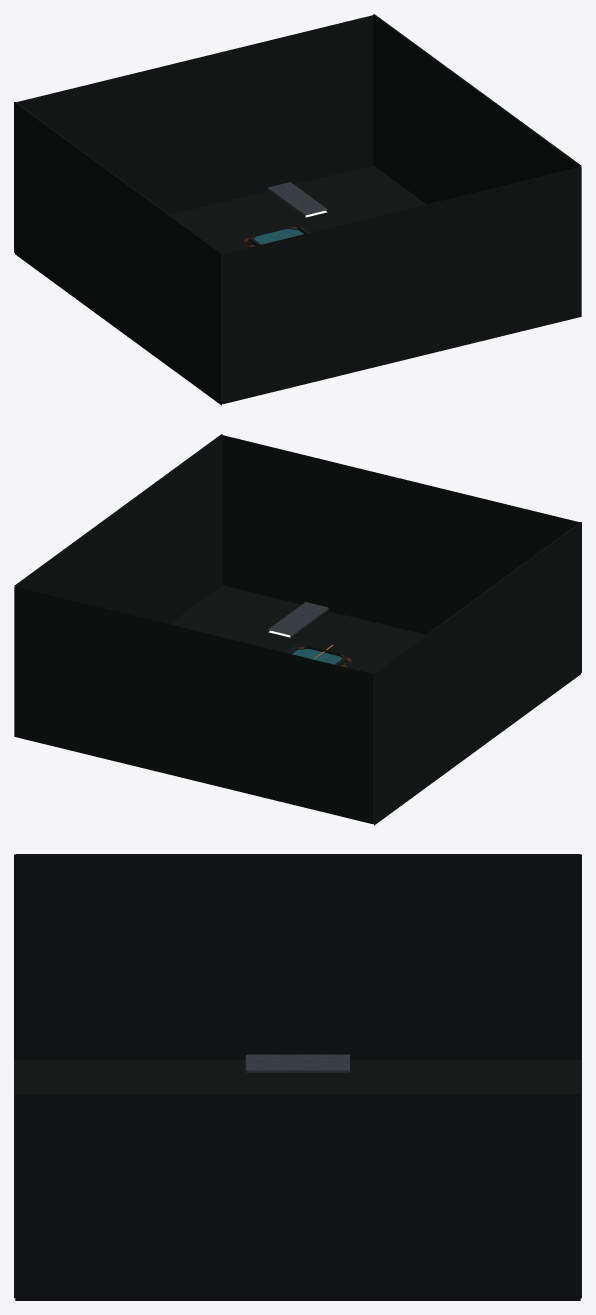
File: focused_practice_hall_modular_v1.gltf
3 views of the same model, one above another, from view 1: azimuth 30°, elevation 25°; view 2: azimuth 150°, elevation 25°; view 3: azimuth 270°, elevation 25° (orthographic). The views are drawn at different scales.
Parts seen in each view (by area): view 1: NODE_background_wall_pz, NODE_background_wall_nz, NODE_background_wall_nx, NODE_background_wall_px, NODE_background_floor, NODE_lamp_housing_LOD0; view 2: NODE_background_wall_nz, NODE_background_wall_pz, NODE_background_wall_nx, NODE_background_wall_px, NODE_background_floor, NODE_lamp_housing_LOD0; view 3: NODE_background_wall_px, NODE_background_wall_nx, NODE_background_floor, NODE_lamp_housing_LOD0, NODE_background_wall_nz, NODE_background_wall_pz.
Boxes of the visible parts, bbox=[...] form: NODE_background_wall_pz: bbox=[222, 166, 581, 404]; NODE_background_wall_nz: bbox=[16, 15, 373, 214]; NODE_background_wall_nx: bbox=[14, 102, 222, 403]; NODE_background_wall_px: bbox=[373, 14, 581, 203]; NODE_background_floor: bbox=[15, 165, 426, 405]; NODE_lamp_housing_LOD0: bbox=[267, 182, 327, 217]; NODE_background_wall_nz: bbox=[14, 586, 373, 824]; NODE_background_wall_pz: bbox=[222, 435, 579, 634]; NODE_background_wall_nx: bbox=[373, 522, 581, 823]; NODE_background_wall_px: bbox=[14, 434, 222, 623]; NODE_background_floor: bbox=[169, 585, 580, 825]; NODE_lamp_housing_LOD0: bbox=[268, 602, 328, 637]; NODE_background_wall_px: bbox=[15, 1093, 580, 1298]; NODE_background_wall_nx: bbox=[15, 854, 580, 1059]; NODE_background_floor: bbox=[15, 1060, 580, 1300]; NODE_lamp_housing_LOD0: bbox=[245, 1054, 350, 1072]; NODE_background_wall_nz: bbox=[579, 854, 581, 1298]; NODE_background_wall_pz: bbox=[14, 854, 16, 1298].
Bounding box in the file's own units: 10.05 × 4.05 × 10.05.
